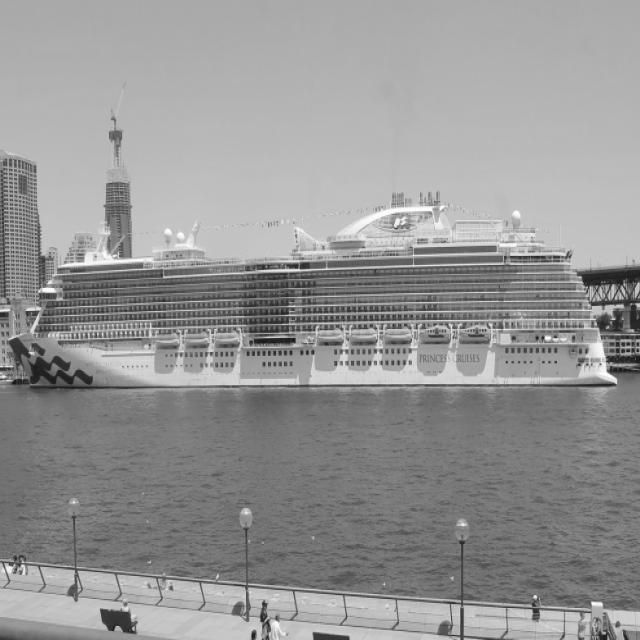cruises: (8, 169, 625, 407)
